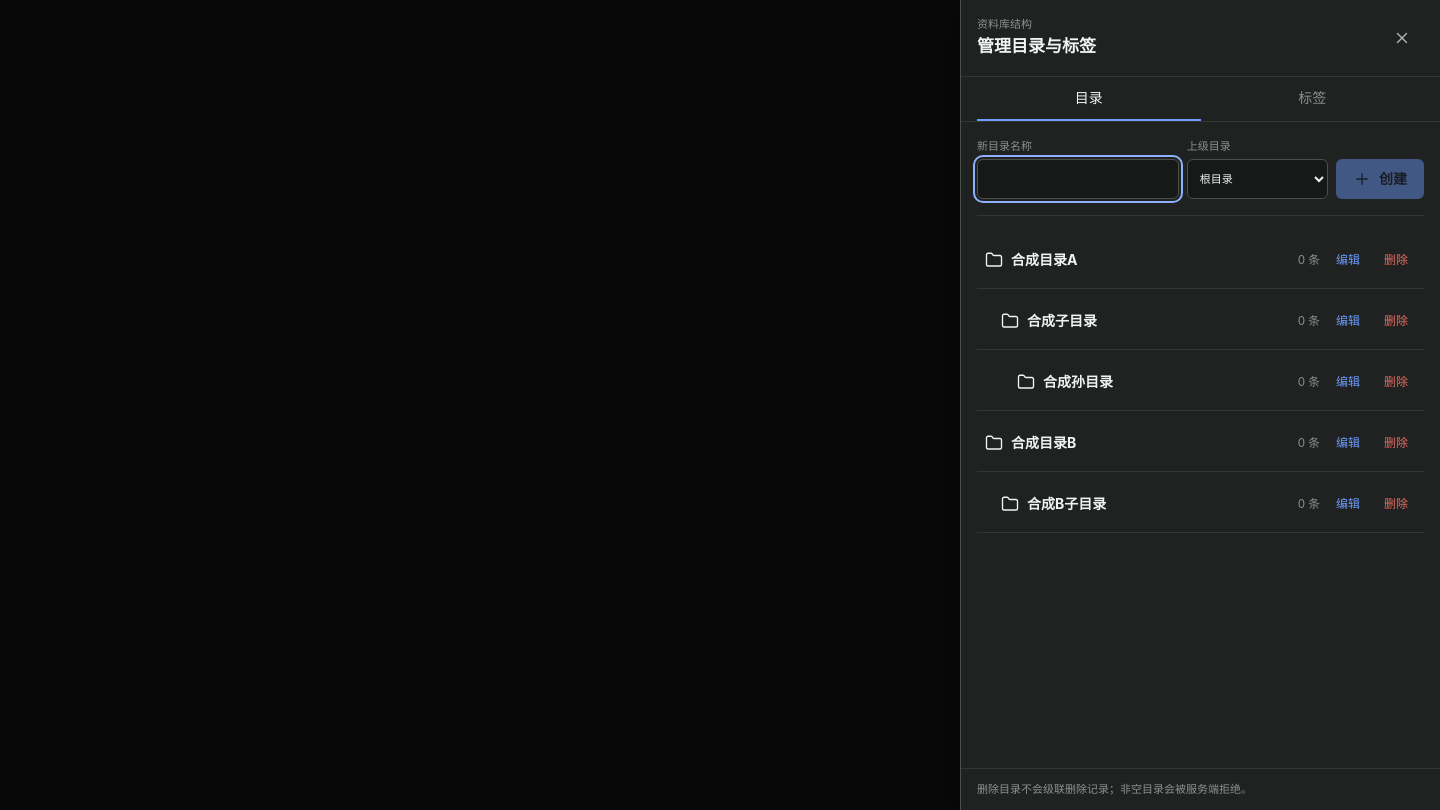
Test: LibraryManageDrawer 编辑上级候选排除自身子树（DT-R288） › 正向控制：选合法 B 保存 A 移动，仅一条 move POST 且无 rename PATCH，fresh GET 反映新树且表单正常收束
The image size is (1440, 810).
Expected: the dialog with class "manager" is shown, [960,0,1439,809]
Expected: the list item "合成目录A 0 条 编辑 删除" is shown, [977,232,1424,289]
Step 1. Click the button "编辑" in the row of "合成目录A" → click(1348, 260), box [1328,240,1368,280]
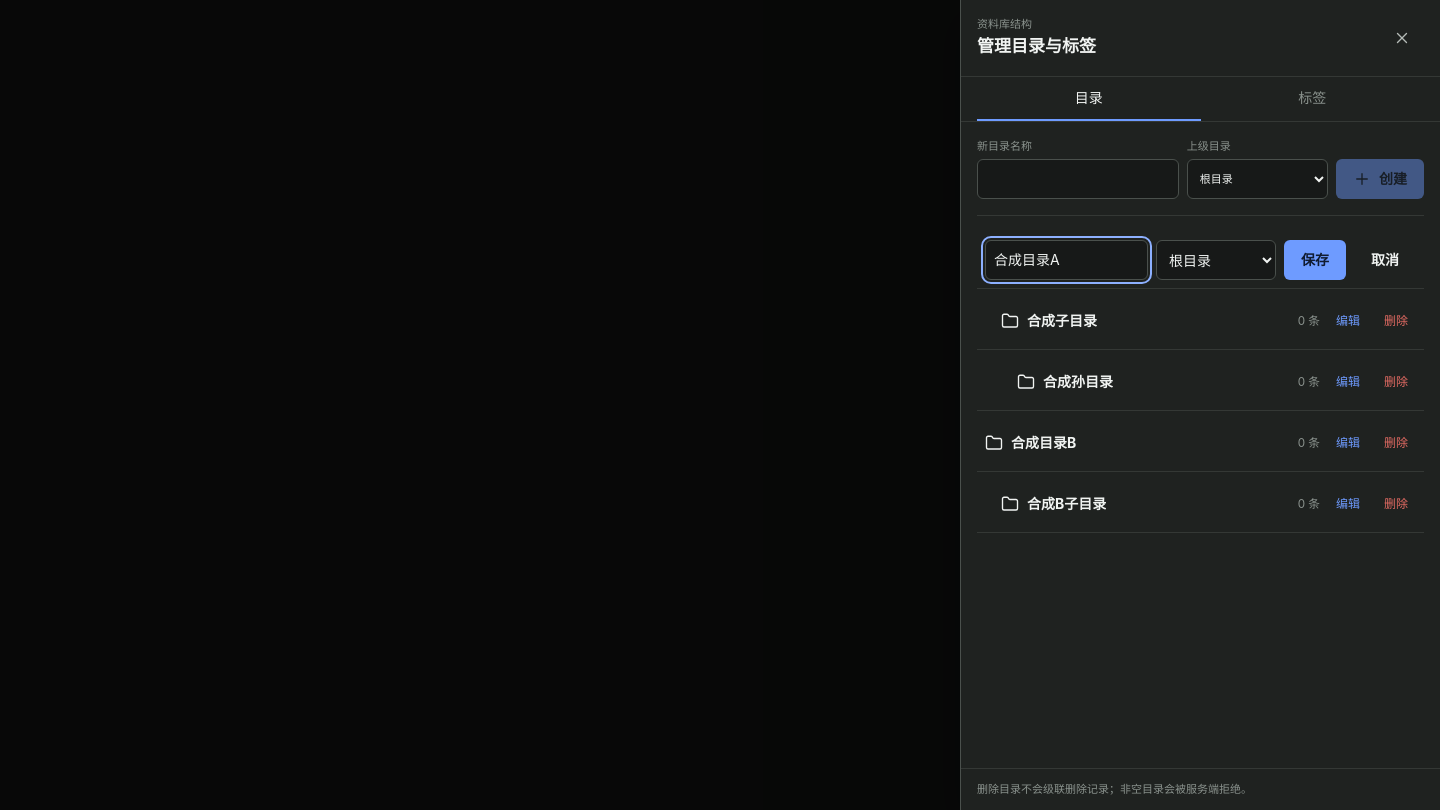
Expected: the form with class "edit-form" is shown, [985,240,1416,280]
Expected: the dropdown named "上级目录" is shown
Step 2. Select "合成目录B" in the dropdown named "上级目录" → (1216, 260), box [1156,240,1276,280]
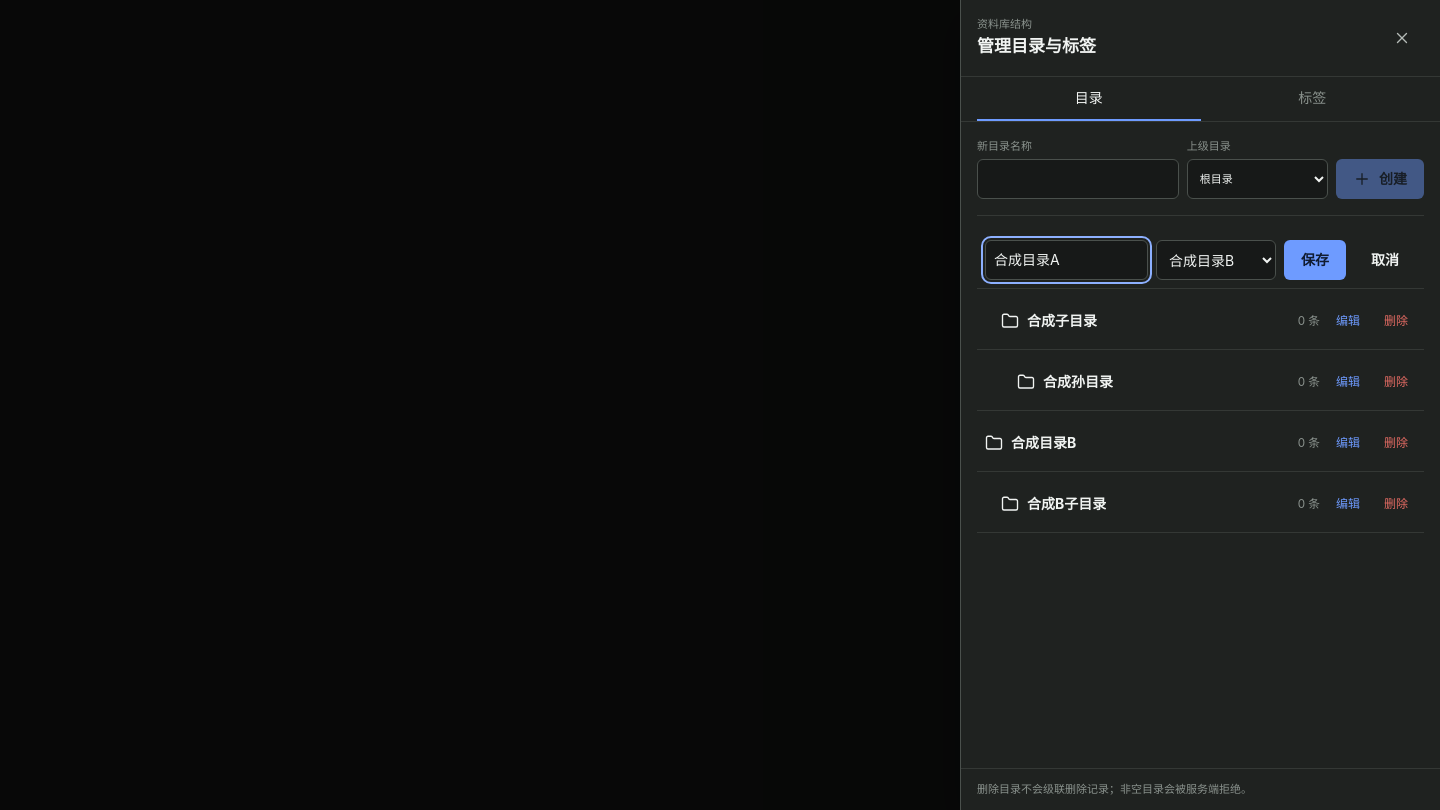
Expected: the form with class "edit-form" is shown, [985,240,1416,280]
Expected: the button "保存" is shown
Step 3. Click the button "保存" → click(1315, 260), box [1284,240,1346,280]
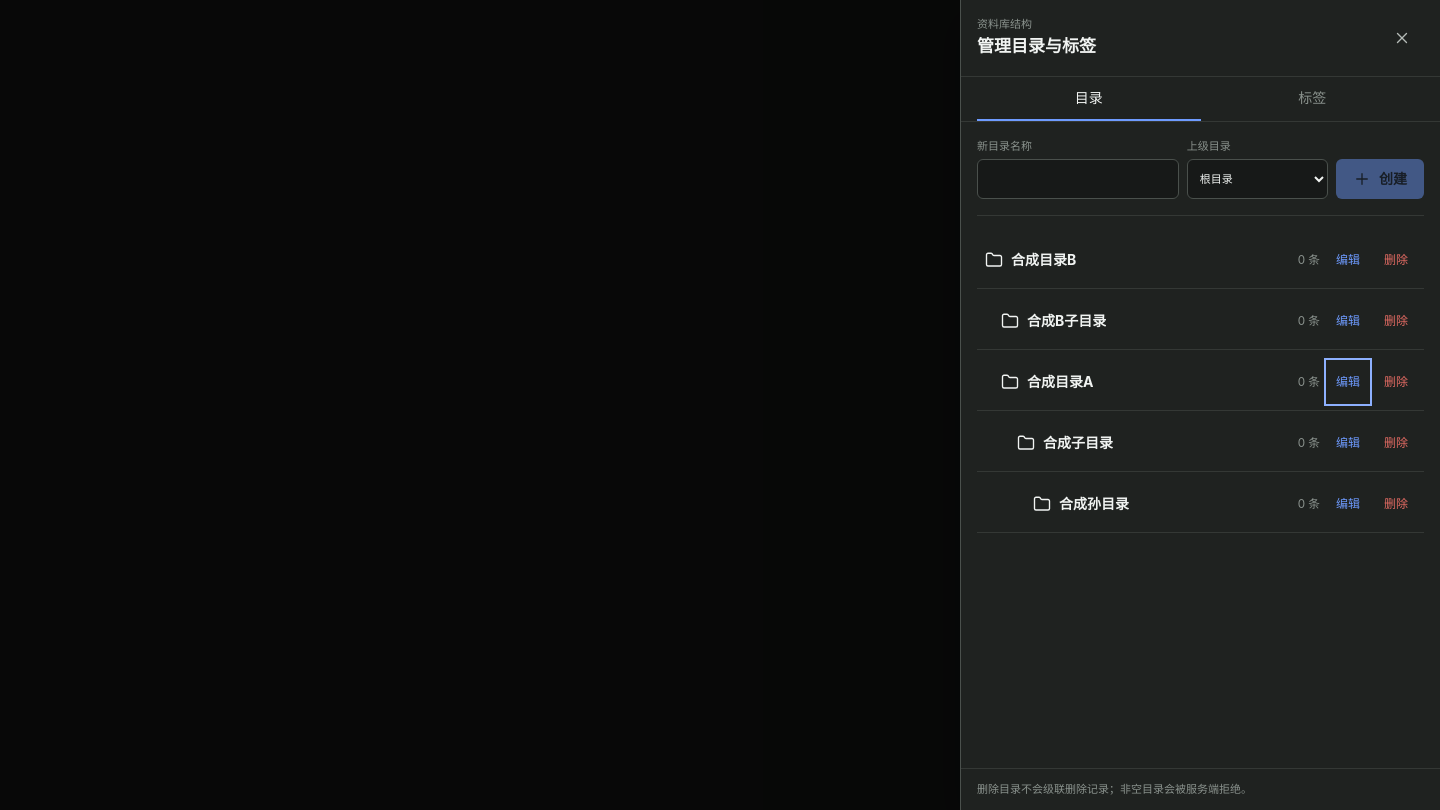
Expected: the form with class "edit-form" is gone
